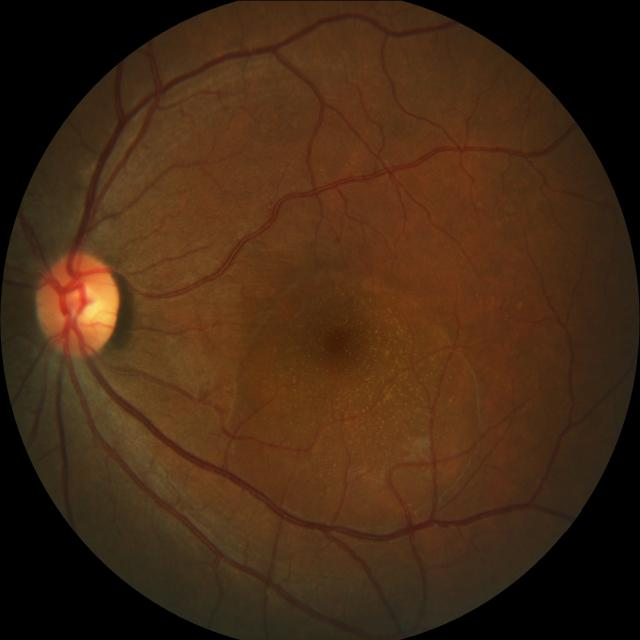OC: (59, 275, 103, 328)
OD: (33, 251, 119, 356)
